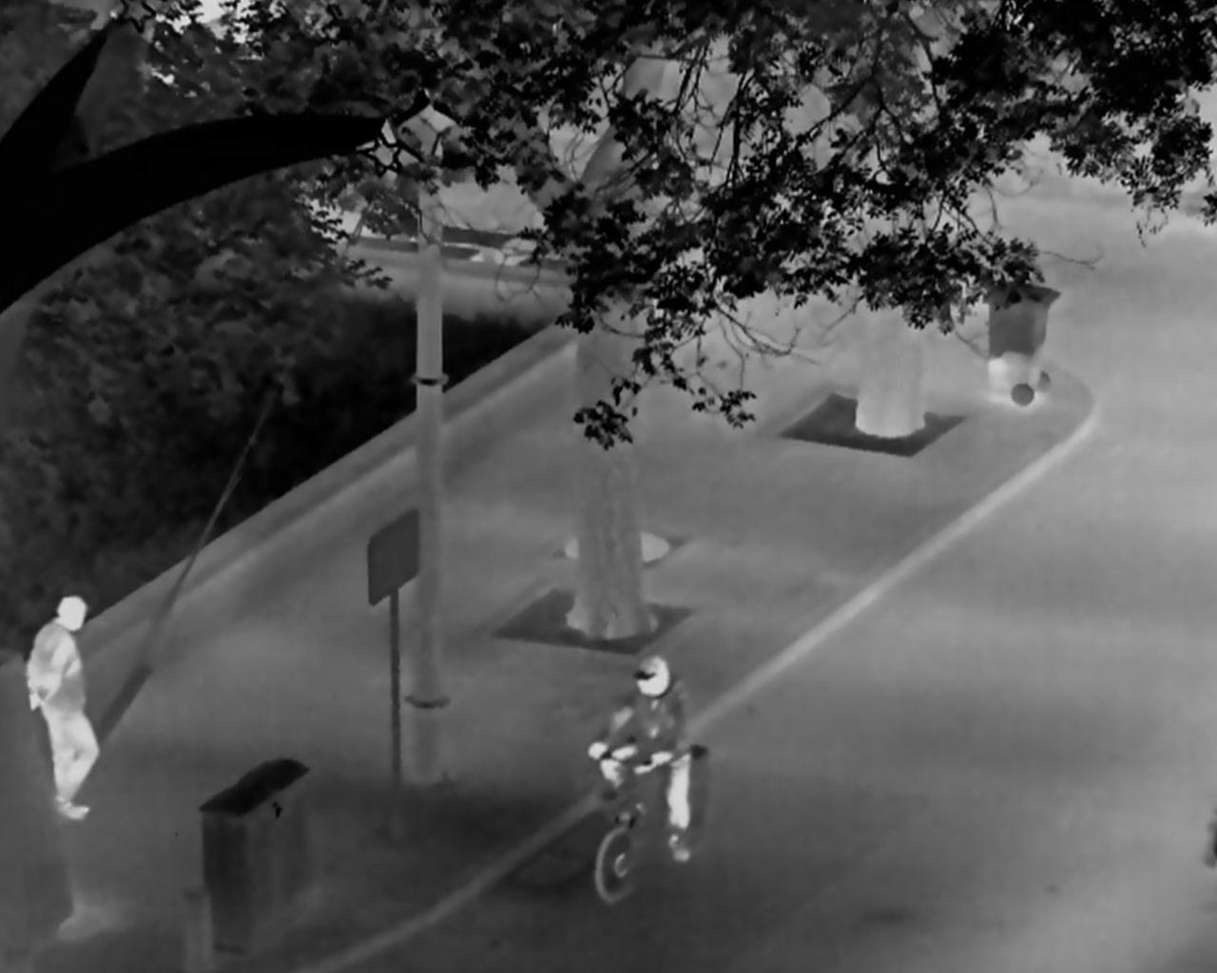person: (588, 656, 691, 862), (23, 595, 101, 822)
